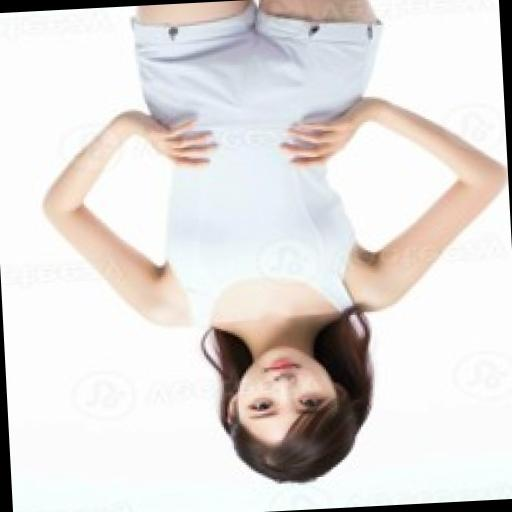human: (28, 0, 512, 507)
